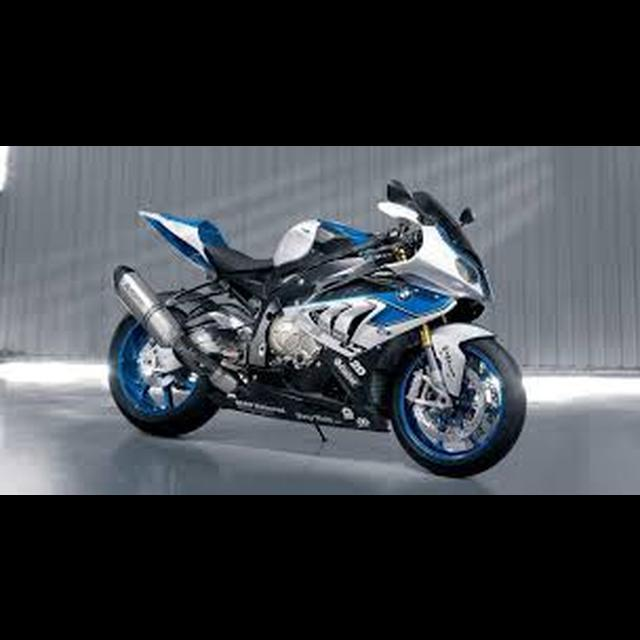motorcycle: (109, 177, 527, 476)
